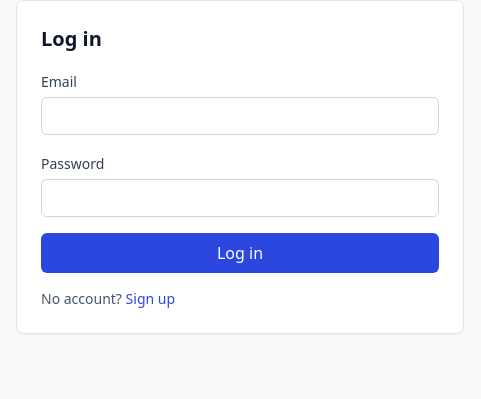
Test case: Login page › shows an error message when login fails
Step 1. Type "jane@candidate.test" into the field labelled "Email" → (240, 116), box [41,97,439,135]
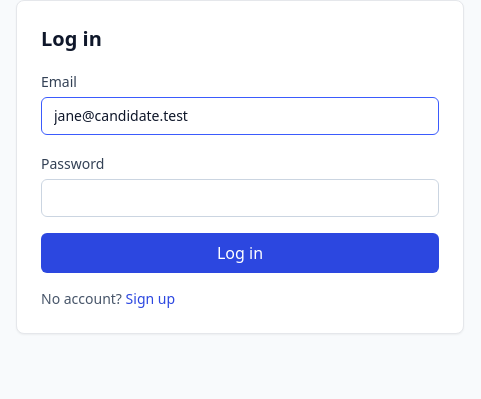
Step 2. Type "wrong-password" into the password field labelled "Password" → (240, 198), box [41,179,439,217]
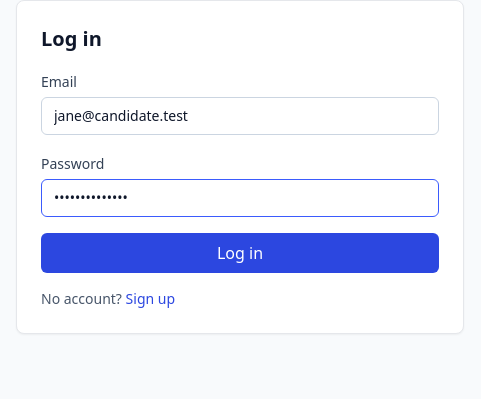
Step 3. Click the button "Log in" → (240, 253), box [41,233,439,273]
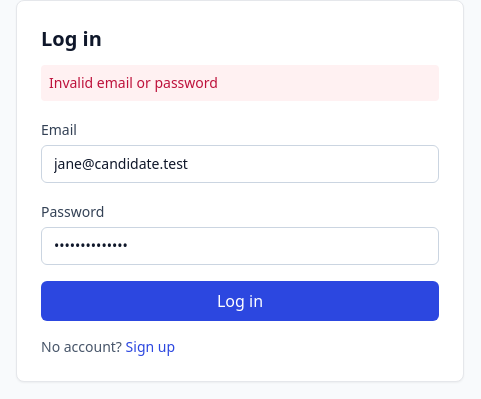
Check: the text "Invalid email or password" is shown, box [41,65,439,101]
